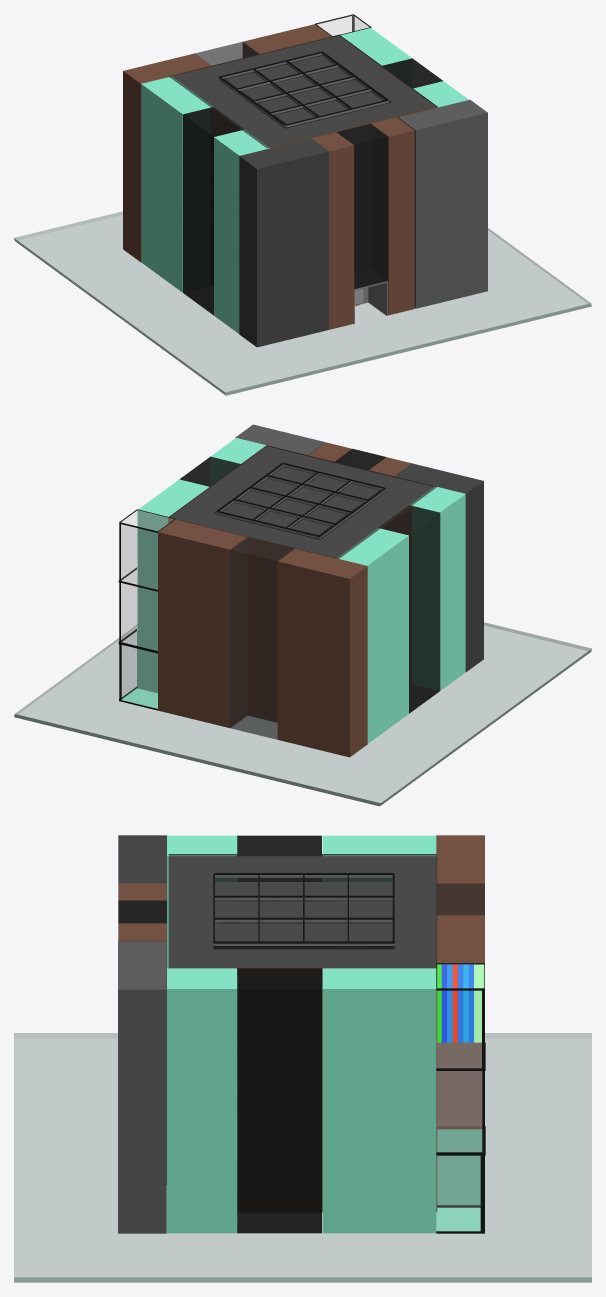
Rendered from haven.glb.
3 views of the same model, one above another, from view 1: azimuth 30°, elevation 25°; view 2: azimuth 150°, elevation 25°; view 3: azimuth 270°, elevation 25° (orthographic). The views are drawn at different scales.
Visible parts, largest first — view 1: Plane, floor, haveoutputone.005, haven, haveoutputone.014, haven.035, haveoutputone.001, haveoutputone, haveoutputone.008, haveoutputone.002, haveoutputone.007, haveoutputone.006 (+9 smaller); view 2: Plane, floor, haveoutputone.003, haveoutputone.012, haven, haven.035, haveoutputone.002, haveoutputone.004, haveoutputone.001, haveoutputone.013, haveoutputone, haven.031 (+8 smaller); view 3: Plane, floor, haveoutputone.010, haven.035, haven, haveoutputone.009, haveoutputone.011, haveoutputone.014, haveoutputone.013, haveoutputone.012, haveoutputone.003, haveoutputone.021 (+13 smaller).
Part boxes in pixels (x1,y1,x2,y2): Plane: [14, 211, 591, 395]; floor: [15, 211, 590, 392]; haveoutputone.005: [239, 138, 328, 347]; haven: [173, 36, 435, 323]; haveoutputone.014: [398, 100, 487, 308]; haven.035: [169, 35, 437, 147]; haveoutputone.001: [141, 76, 212, 292]; haveoutputone: [183, 107, 243, 315]; haveoutputone.008: [337, 124, 388, 288]; haveoutputone.002: [214, 130, 269, 333]; haveoutputone.007: [371, 117, 414, 315]; haveoutputone.006: [312, 132, 354, 329]; Plane: [14, 622, 591, 806]; floor: [15, 622, 591, 802]; haveoutputone.003: [277, 548, 367, 757]; haveoutputone.012: [158, 519, 247, 727]; haven: [171, 446, 433, 722]; haven.035: [169, 445, 436, 558]; haveoutputone.002: [410, 487, 465, 690]; haveoutputone.004: [230, 537, 294, 739]; haveoutputone.001: [337, 528, 408, 743]; haveoutputone.013: [121, 510, 173, 708]; haveoutputone: [379, 505, 440, 713]; haven.031: [168, 517, 338, 721]; Plane: [14, 1033, 591, 1282]; floor: [14, 1033, 591, 1277]; haveoutputone.010: [322, 968, 436, 1233]; haven.035: [168, 854, 437, 967]; haven: [169, 855, 437, 1212]; haveoutputone.009: [237, 968, 321, 1233]; haveoutputone.011: [167, 968, 237, 1233]; haveoutputone.014: [118, 941, 166, 1233]; haveoutputone.013: [436, 964, 483, 1230]; haveoutputone.012: [436, 915, 484, 1129]; haveoutputone.003: [436, 835, 484, 915]; haveoutputone.021: [437, 1129, 482, 1205].
Size of what is drawn, in the model's own units: 265 by 128 by 265.
